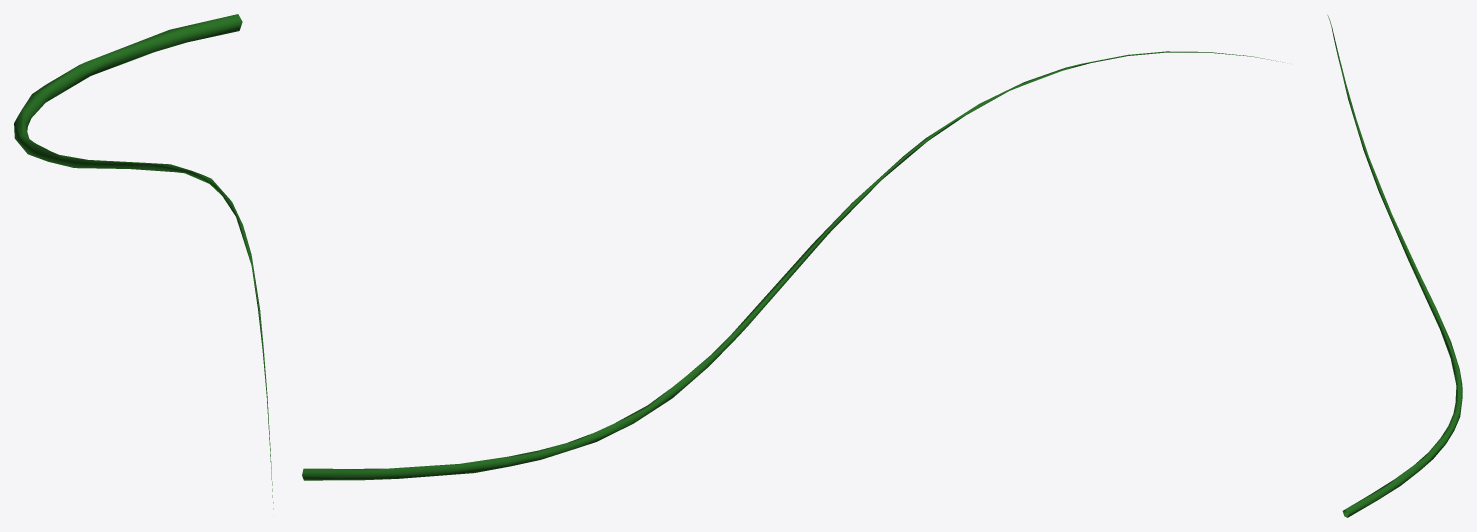
The model's file is Vines07.fbx.
3 views of the same model, side by side, from view 1: azimuth 90°, elevation 25°; view 2: azimuth 210°, elevation 25°; view 3: azimuth 270°, elevation 25° (orthographic). The views are drawn at different scales.
Parts seen in each view (by area): view 1: Vine.001; view 2: Vine.001; view 3: Vine.001.
Boxes of the visible parts, x1,y1,x2,y2 form: Vine.001: (14, 14, 273, 509); Vine.001: (302, 51, 1282, 480); Vine.001: (1327, 15, 1462, 517).
Bounding box in the file's own units: 811 × 170 × 123.
